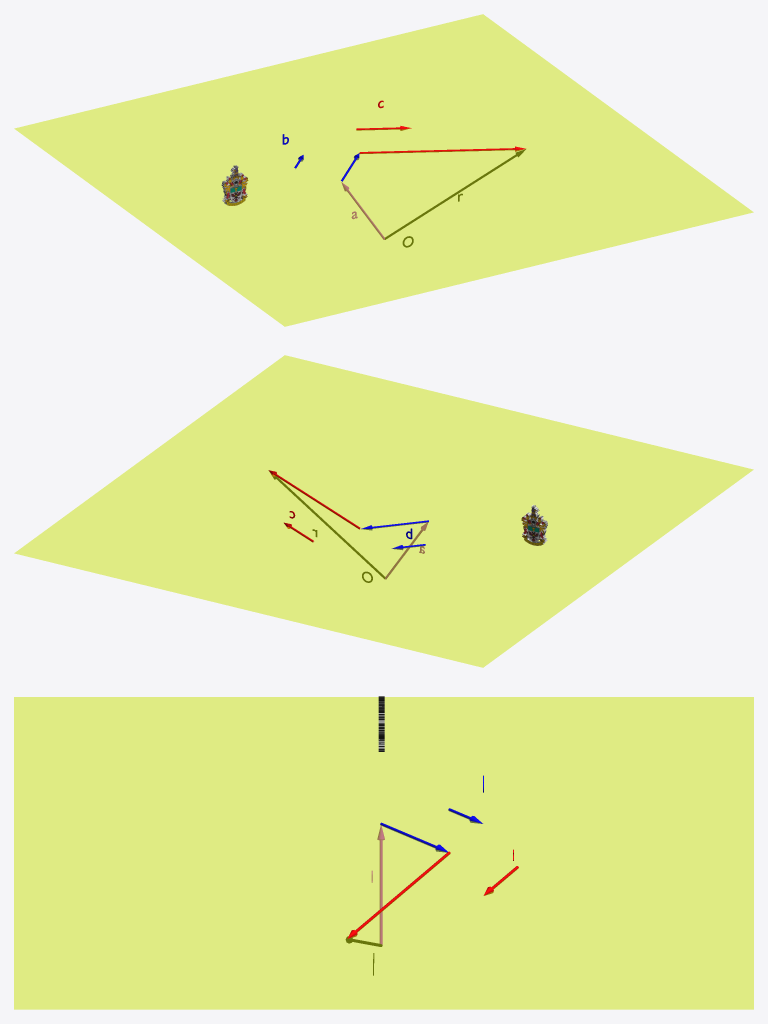
3 views of the same model, one above another, from view 1: azimuth 30°, elevation 25°; view 2: azimuth 150°, elevation 25°; view 3: azimuth 270°, elevation 25° (orthographic). The views are drawn at different scales.
Visible parts, largest first — view 1: f, Mesh_0.002; view 2: f, Mesh_0.002; view 3: f.
Part boxes in pixels (bbox=[...]): f: bbox=[14, 14, 753, 326]; Mesh_0.002: bbox=[221, 165, 248, 205]; f: bbox=[14, 355, 753, 667]; Mesh_0.002: bbox=[521, 504, 547, 545]; f: bbox=[14, 697, 753, 1009].
Bounding box in the file's own units: 0.217 × 0.0533 × 0.217.
Materials: 11 (1 with a texture image).
